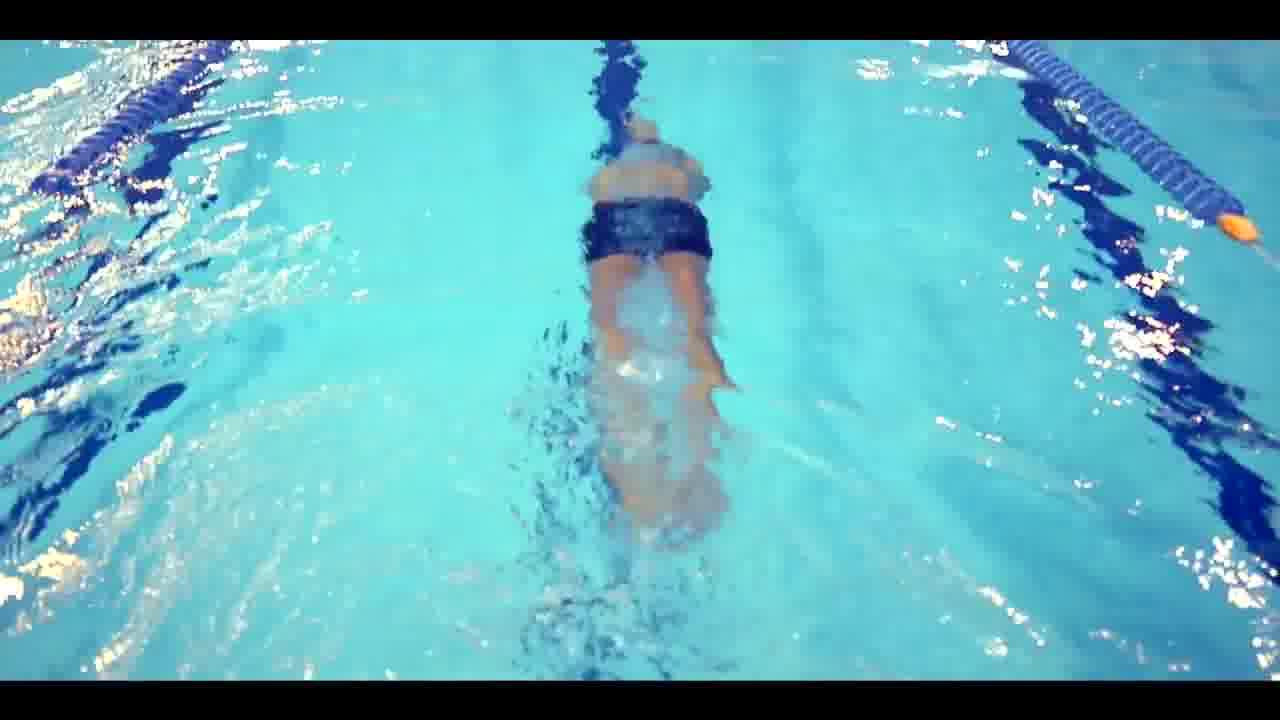human: (559, 102, 766, 558)
